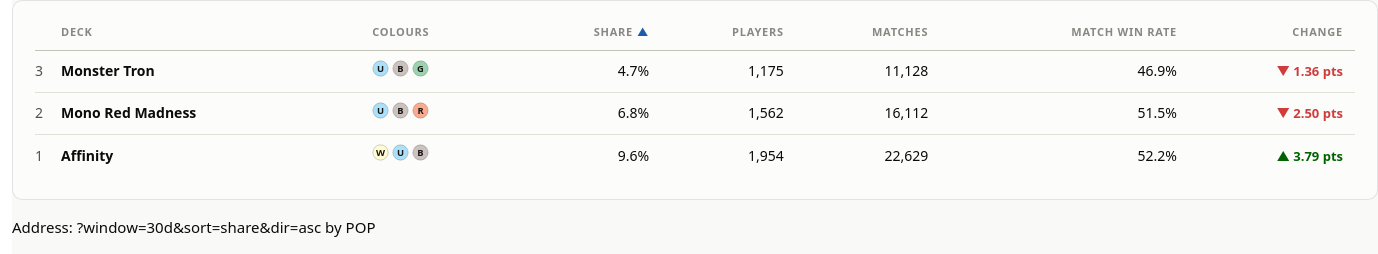
Test: DeckTable › leaves the parameters out for the default sort
Click the button "Share ▲": (621, 32) [594,23,649,41]
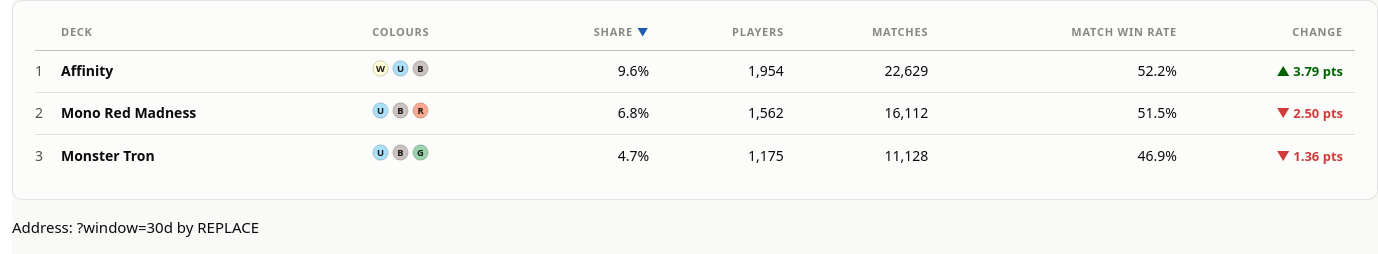
Expected: the text "Address: ?window=30d by REPLACE" is shown, [12,217,259,237]
